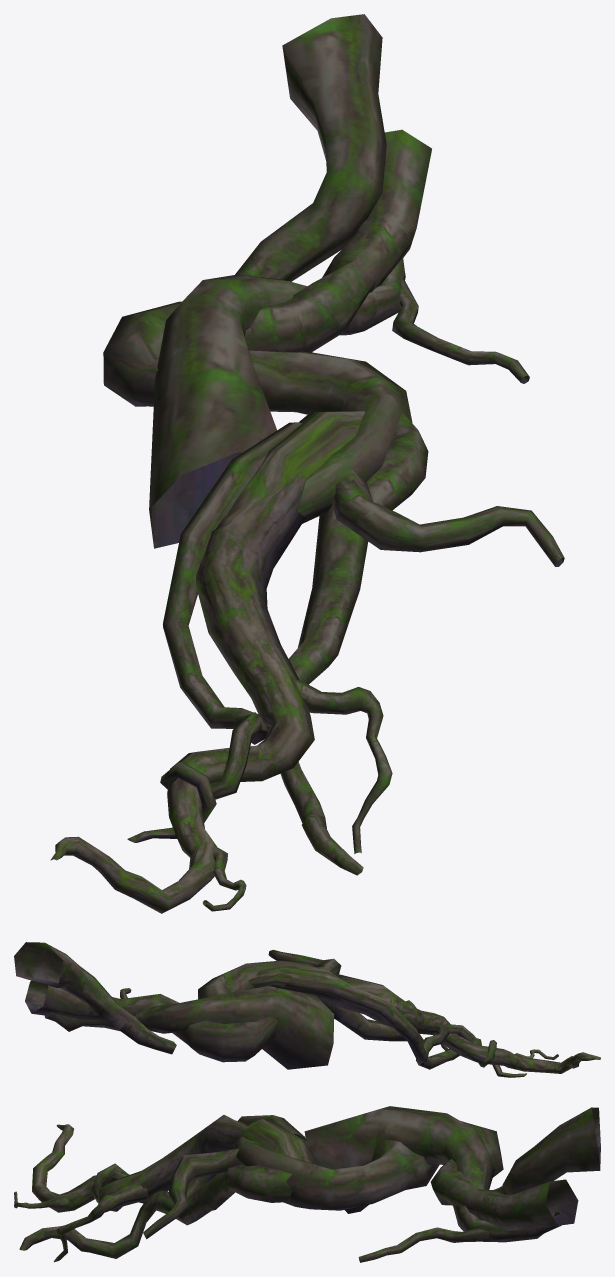
File: zhiwu_04.FBX
3 renders of one model, top to bottom at view 1: azimuth 30°, elevation 25°; view 2: azimuth 150°, elevation 25°; view 3: azimuth 270°, elevation 25°, orthographic. The views are drawn at different scales.
Parts seen in each view (by area): view 1: zhuwu_04; view 2: zhuwu_04; view 3: zhuwu_04.
Part boxes in pixels (x1=…): zhuwu_04: x1=50, y1=14, x2=564, y2=913; zhuwu_04: x1=14, y1=942, x2=600, y2=1077; zhuwu_04: x1=14, y1=1106, x2=600, y2=1262.
Size of the model in its own units: 10.9 by 5.91 by 11.36.
